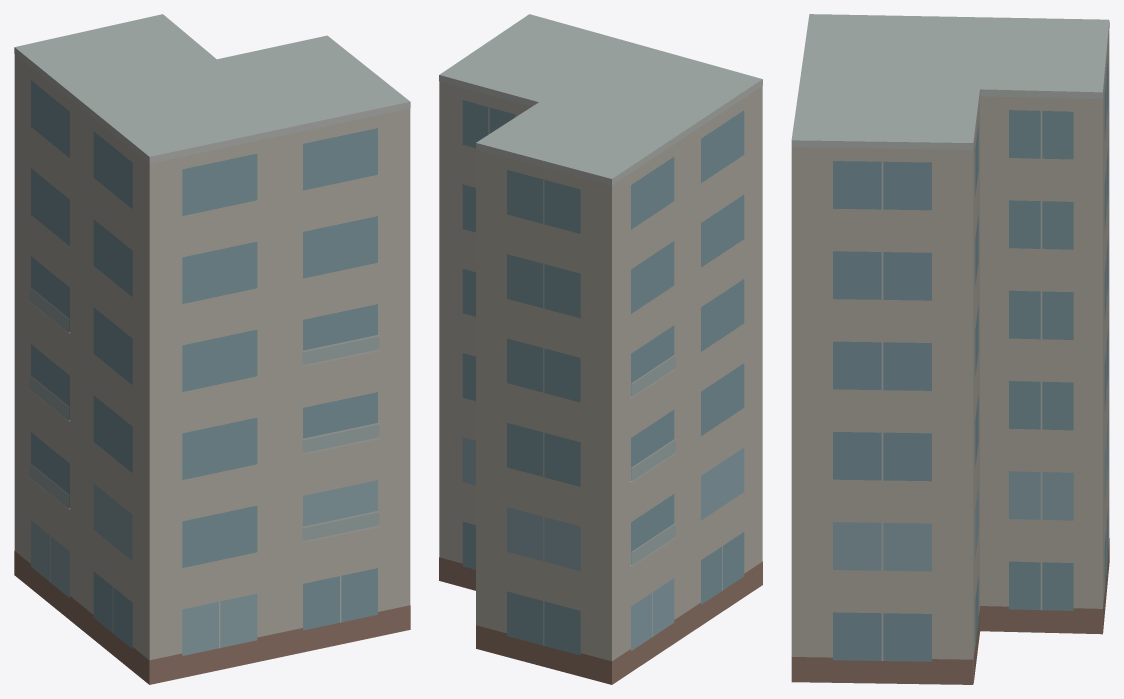
File: survey-upis-32765985.glb
3 views of the same model, side by side, from view 1: azimuth 30°, elevation 25°; view 2: azimuth 150°, elevation 25°; view 3: azimuth 270°, elevation 25° (orthographic). The views are drawn at different scales.
Visible parts, largest first — view 1: survey-upis-32765985.tmp; view 2: survey-upis-32765985.tmp; view 3: survey-upis-32765985.tmp.
Part boxes in pixels (bbox=[...]): survey-upis-32765985.tmp: bbox=[14, 14, 410, 684]; survey-upis-32765985.tmp: bbox=[439, 14, 762, 684]; survey-upis-32765985.tmp: bbox=[791, 14, 1109, 684].
Bounding box in the file's own units: 9.77 × 19.1 × 10.17.
